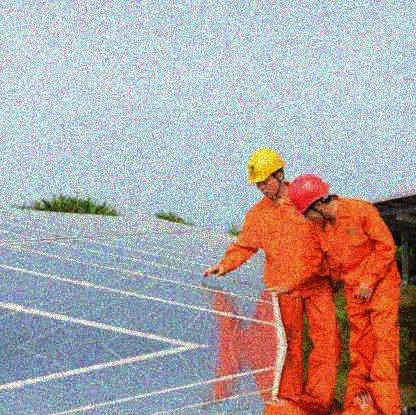helmet: (288, 175, 335, 224), (248, 149, 285, 199)
